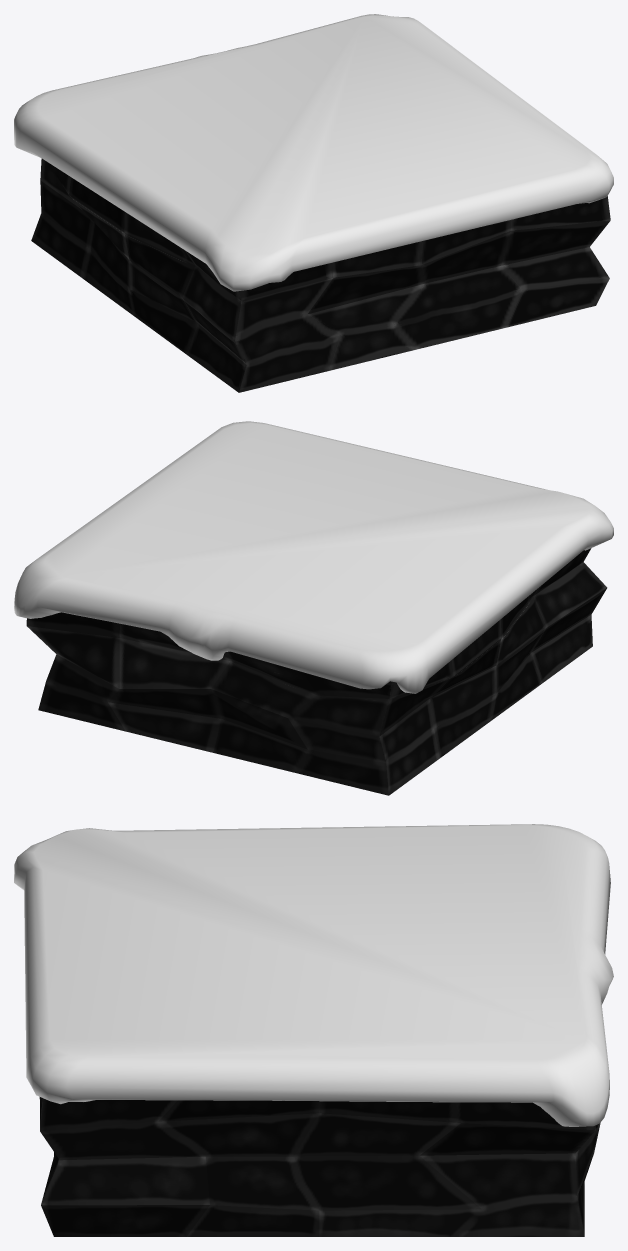
Rendered from IcePlatform01.fbx.
3 renders of one model, top to bottom at view 1: azimuth 30°, elevation 25°; view 2: azimuth 150°, elevation 25°; view 3: azimuth 270°, elevation 25°, orthographic. The views are drawn at different scales.
Parts seen in each view (by area): view 1: IcePlatform01.Top, IcePlatform01; view 2: IcePlatform01.Top, IcePlatform01; view 3: IcePlatform01.Top, IcePlatform01.
Part boxes in pixels (bbox=[...]): IcePlatform01.Top: bbox=[14, 14, 613, 291]; IcePlatform01: bbox=[31, 158, 610, 392]; IcePlatform01.Top: bbox=[14, 421, 613, 693]; IcePlatform01: bbox=[26, 548, 607, 795]; IcePlatform01.Top: bbox=[14, 824, 613, 1126]; IcePlatform01: bbox=[39, 1097, 600, 1236].
Bounding box in the file's own units: 6.45 × 2.15 × 6.41.
